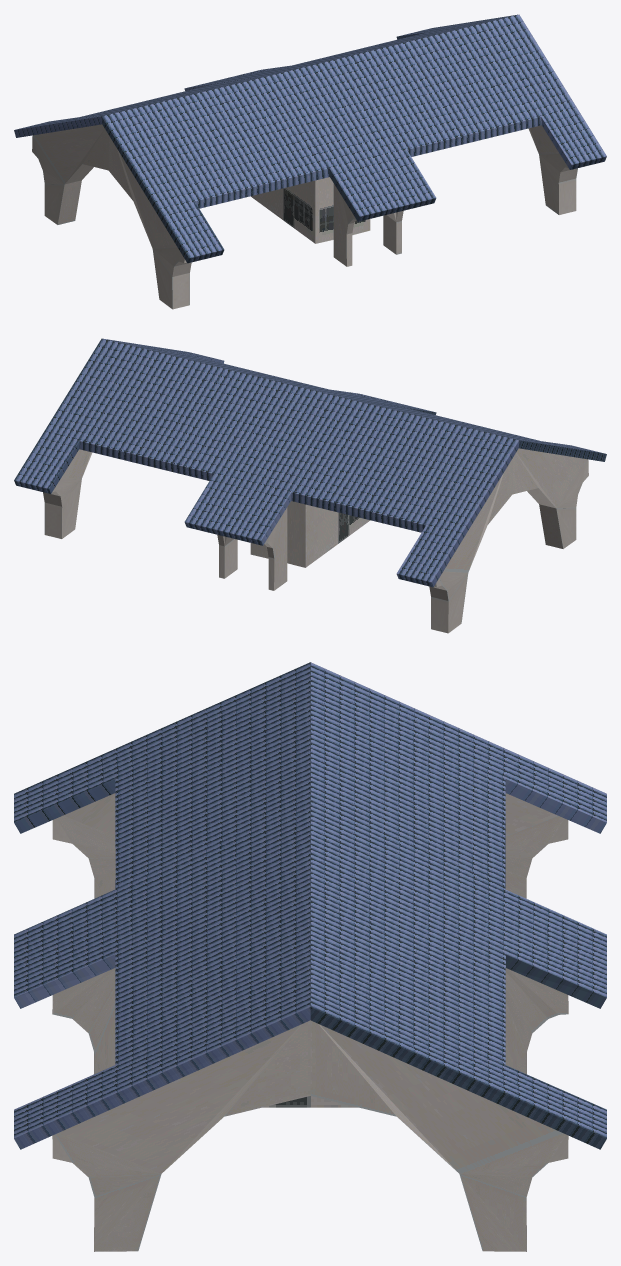
The model's file is lodhsegate1.obj.
3 views of the same model, one above another, from view 1: azimuth 30°, elevation 25°; view 2: azimuth 150°, elevation 25°; view 3: azimuth 270°, elevation 25° (orthographic). The views are drawn at different scales.
Visible parts, largest first — view 1: lodhsegate1; view 2: lodhsegate1; view 3: lodhsegate1.
Part boxes in pixels (x1,y1,x2,y2): lodhsegate1: [14, 14, 606, 309]; lodhsegate1: [14, 338, 606, 633]; lodhsegate1: [14, 662, 606, 1251].
Size of the model in its own units: 26.45 by 8.95 by 19.21.
3 materials, 3 textured.
